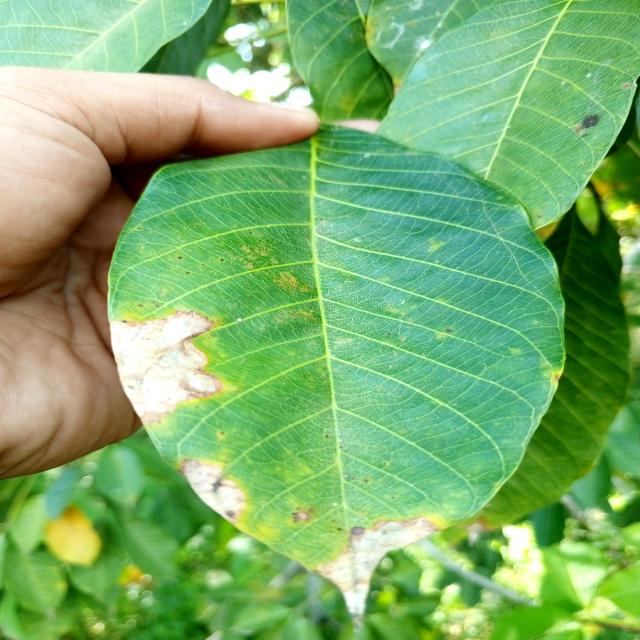Colletotrichum: (351, 526, 364, 535), (178, 257, 182, 259), (221, 259, 224, 261)
Leaf-Blight: (314, 516, 438, 627), (105, 310, 218, 421), (177, 458, 245, 524)
